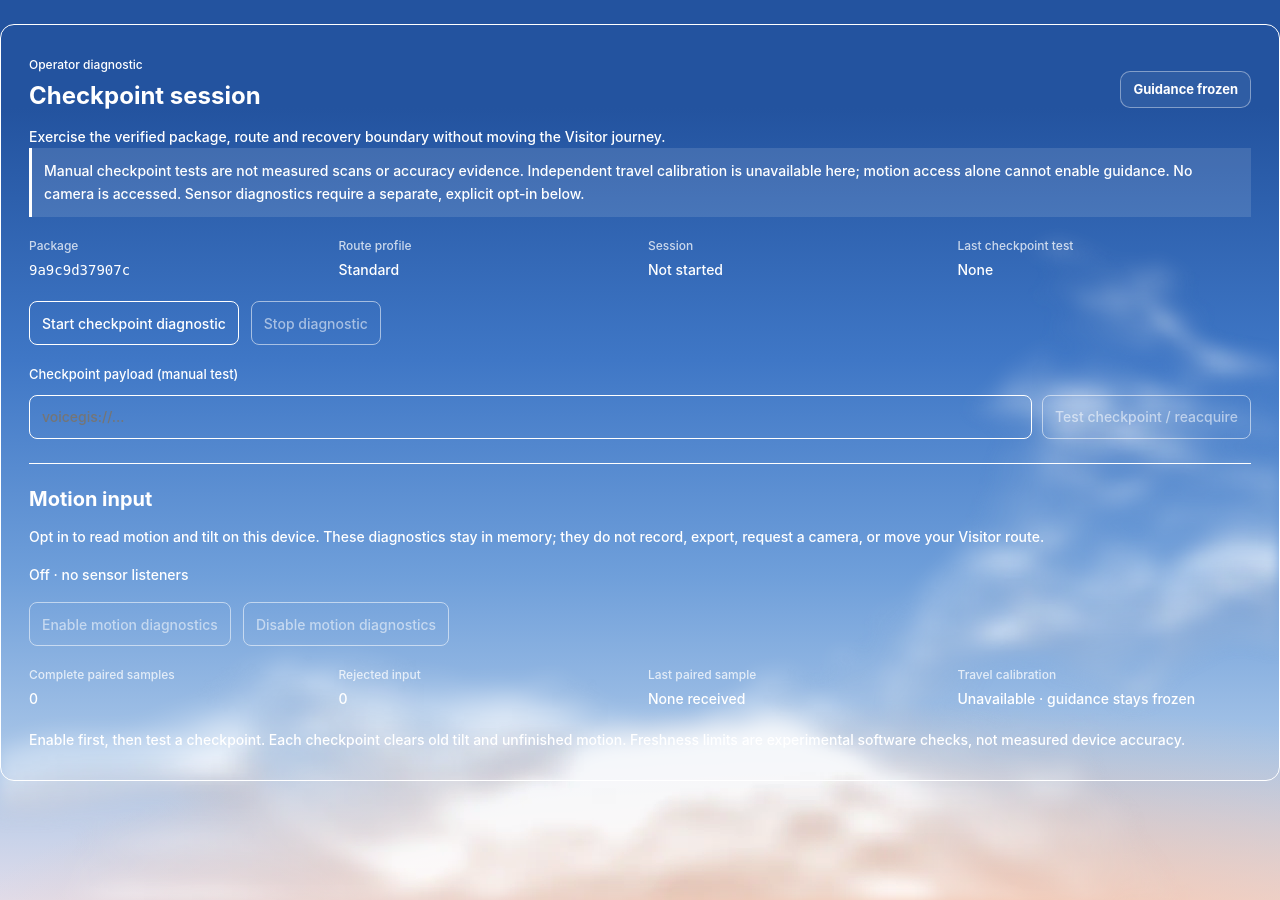
it: operator checkpoint session UI › cannot enroll after stop while package verification is pending
Click the button "Start checkpoint diagnostic" at coordinates (134, 323), box [29, 301, 239, 345]
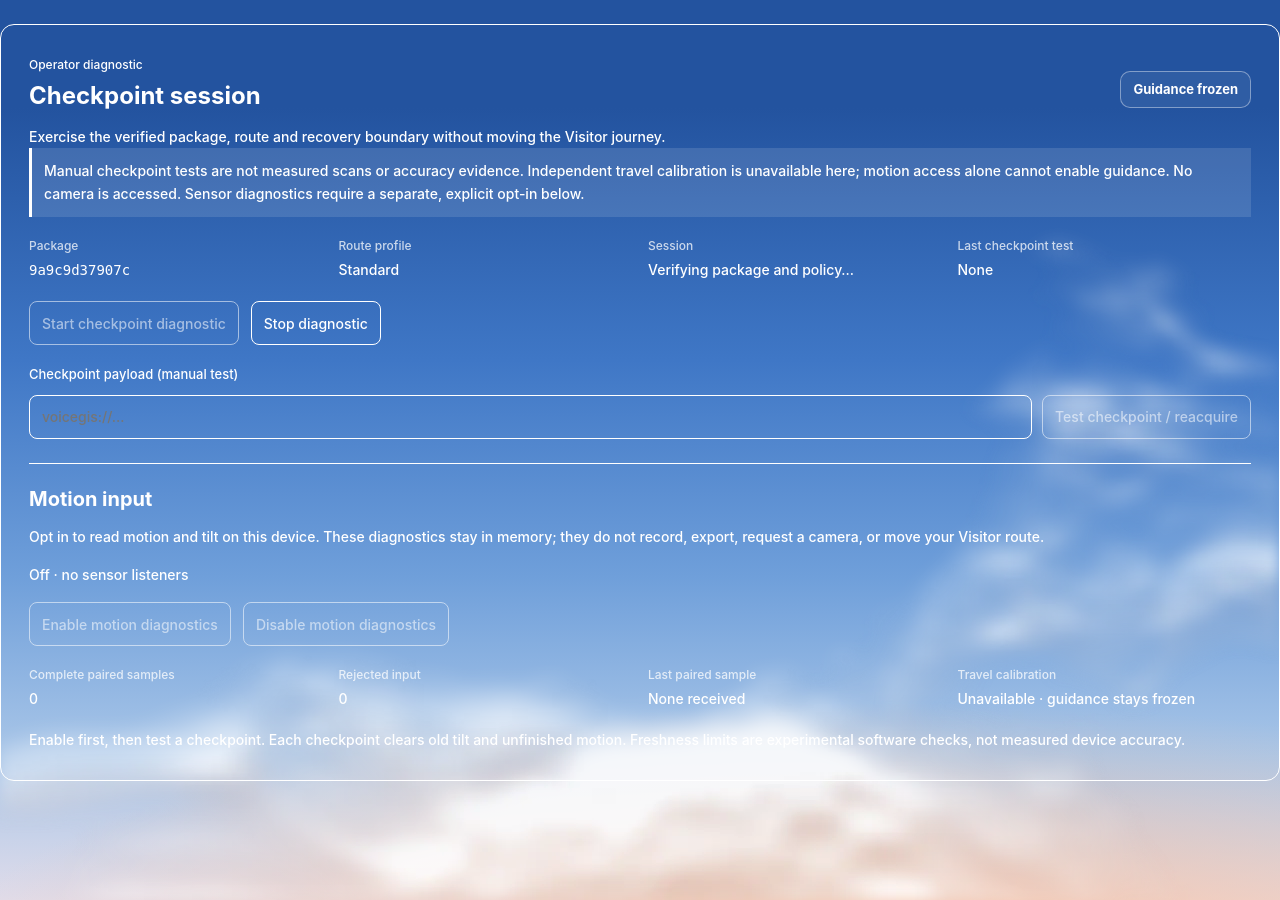
Click the button "Stop diagnostic" at coordinates (316, 323), box [251, 301, 381, 345]
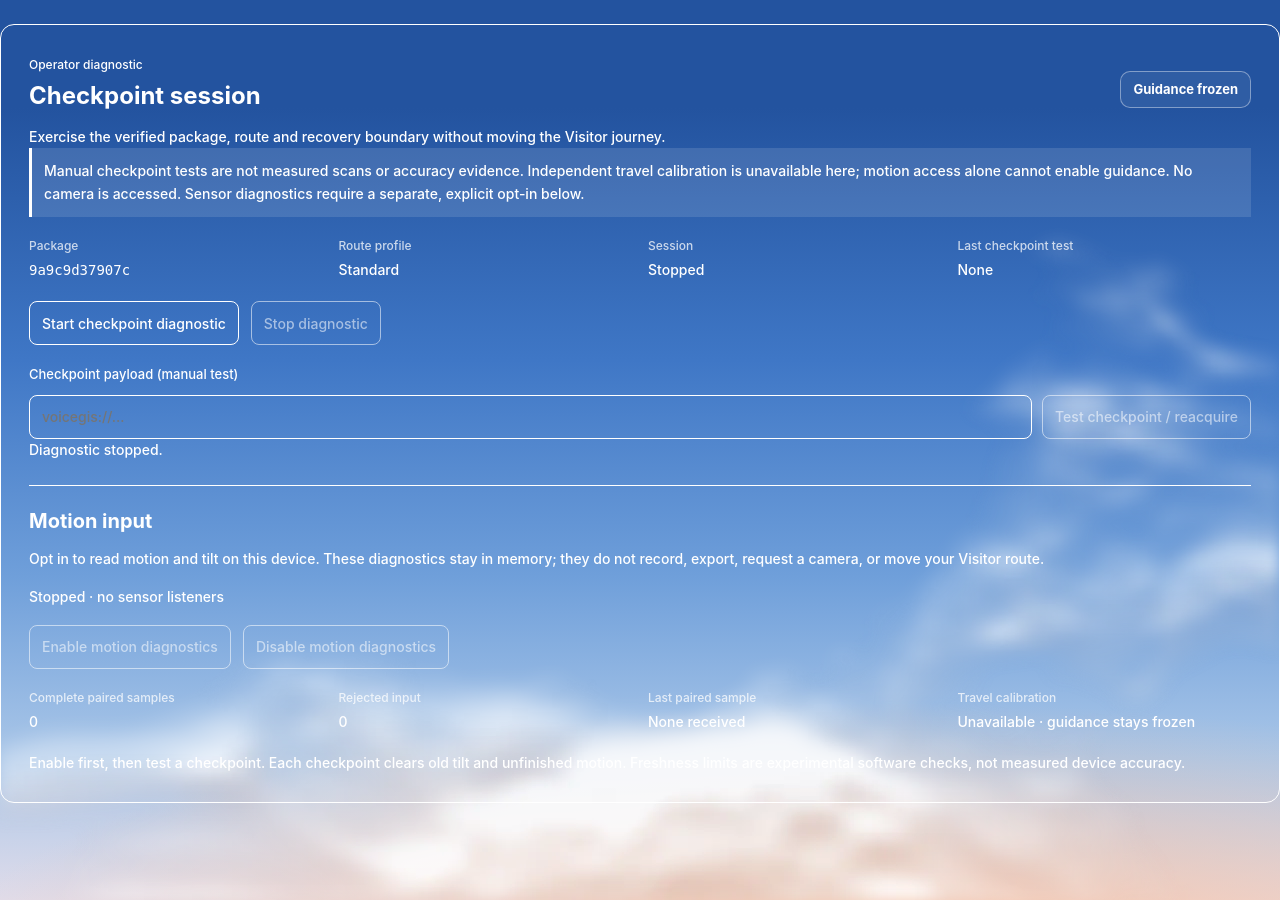
Expected: the text "Stopped" is shown, [648, 261, 704, 278]
